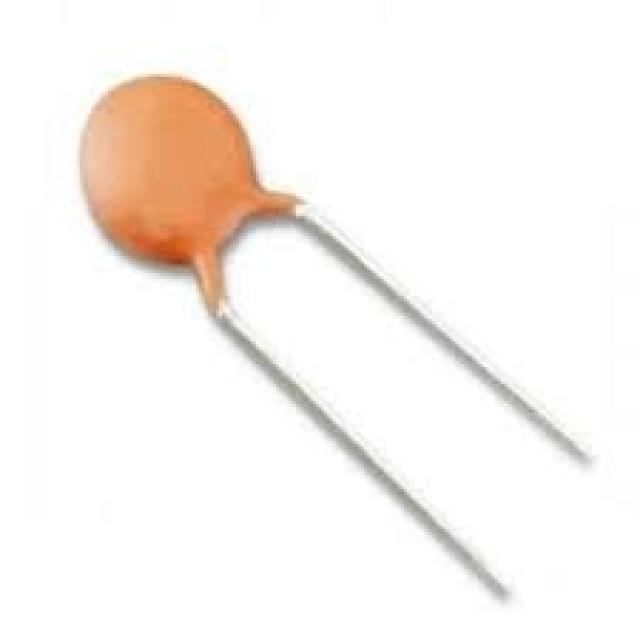Capacitor: (77, 77, 302, 319)
